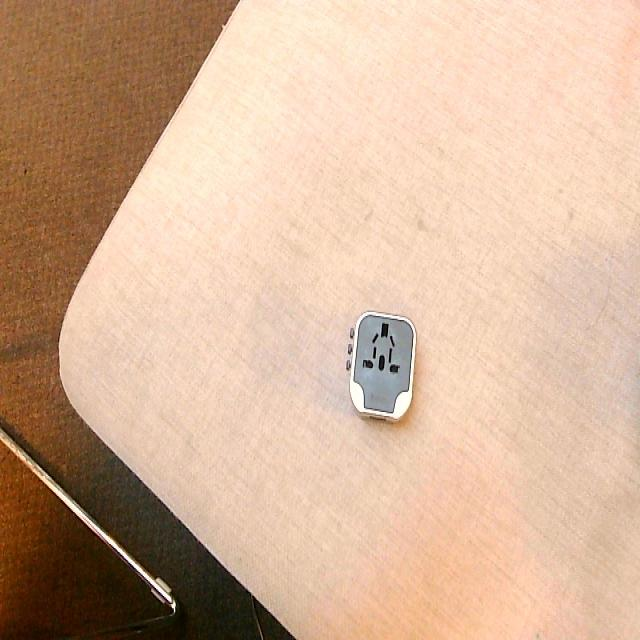adapter: (345, 309, 416, 423)
